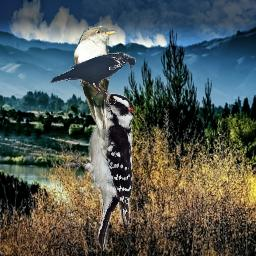Crow: (49, 52, 136, 97)
Cuckoo: (74, 25, 117, 159)
Woodpecker: (60, 88, 136, 251)
